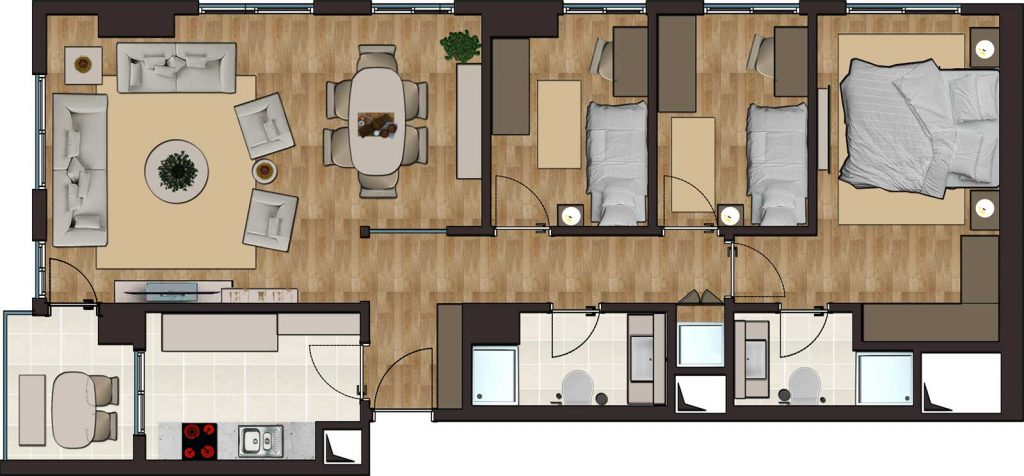room: (28, 1, 492, 315), (805, 1, 1024, 354), (478, 1, 659, 240), (132, 299, 374, 476), (644, 2, 818, 239), (460, 301, 676, 425), (726, 298, 921, 423), (665, 297, 736, 425)
